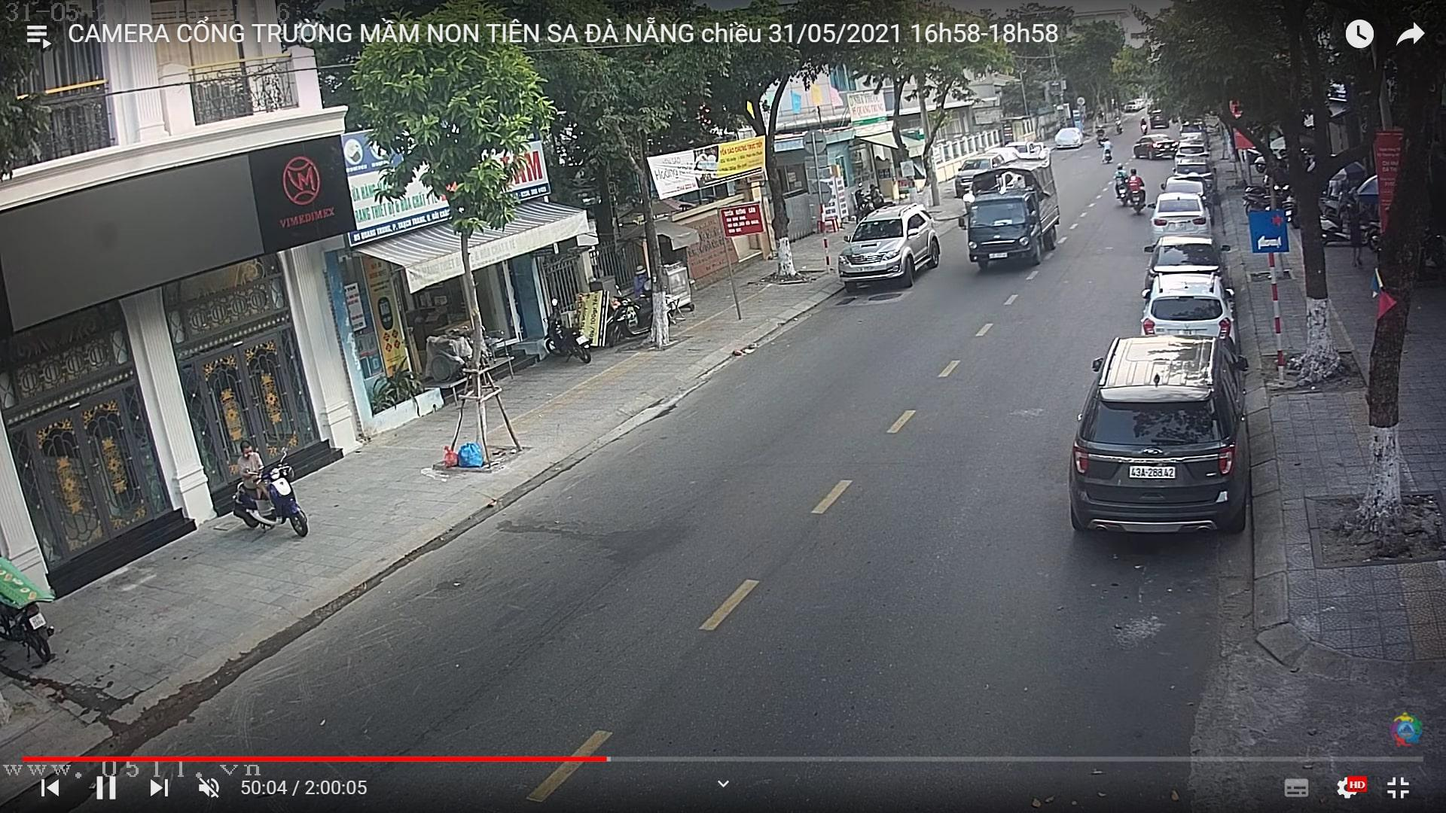car: (1069, 330, 1255, 533), (841, 201, 946, 295), (1143, 239, 1231, 299), (1139, 287, 1234, 341), (1152, 191, 1207, 230), (1055, 126, 1085, 149)
truck: (962, 169, 1060, 269)
